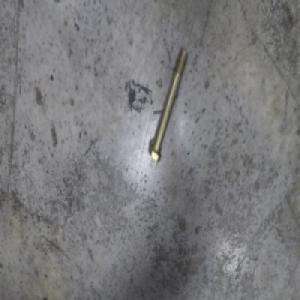Bolt: (148, 48, 192, 164)
